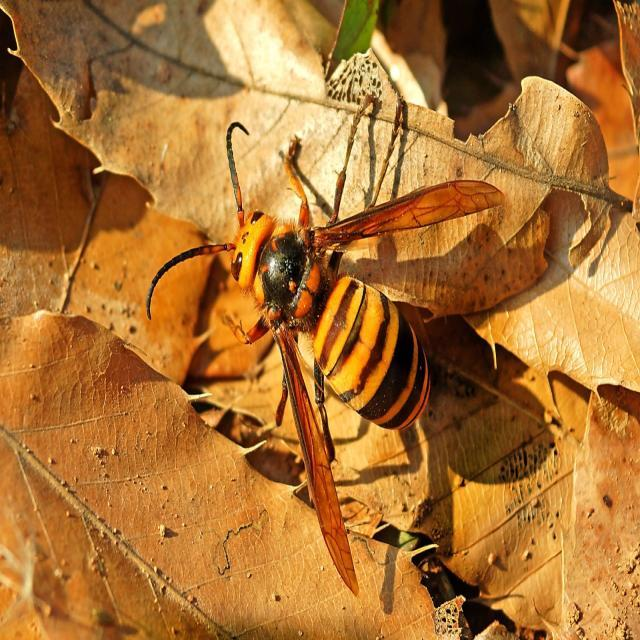Wasp: (200, 133, 504, 567)
